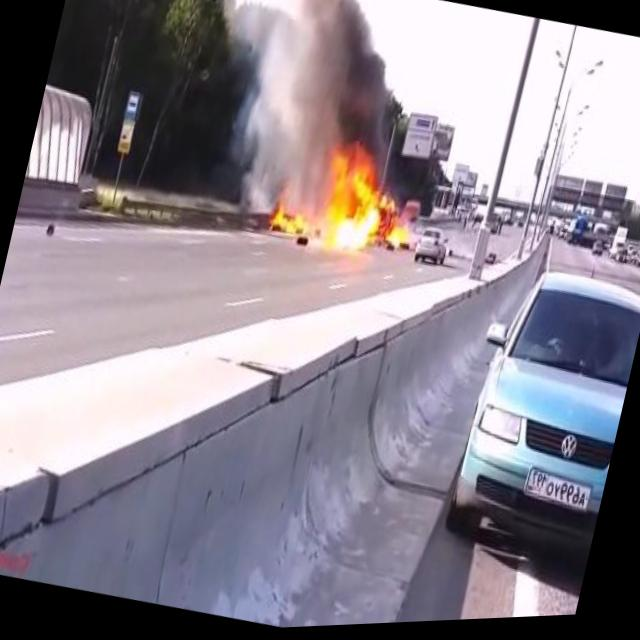fire: (258, 133, 428, 275)
